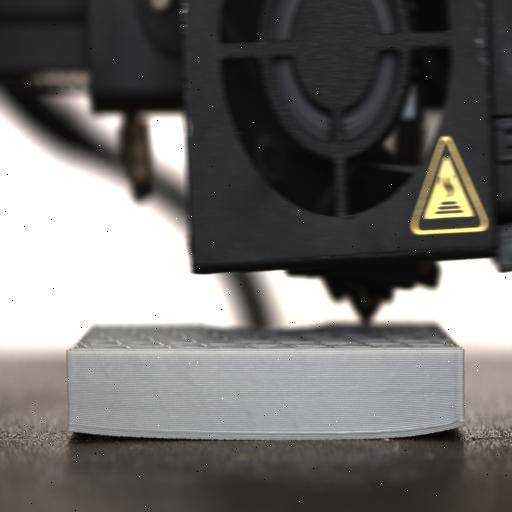warp: (58, 415, 132, 448), (416, 411, 476, 441)
